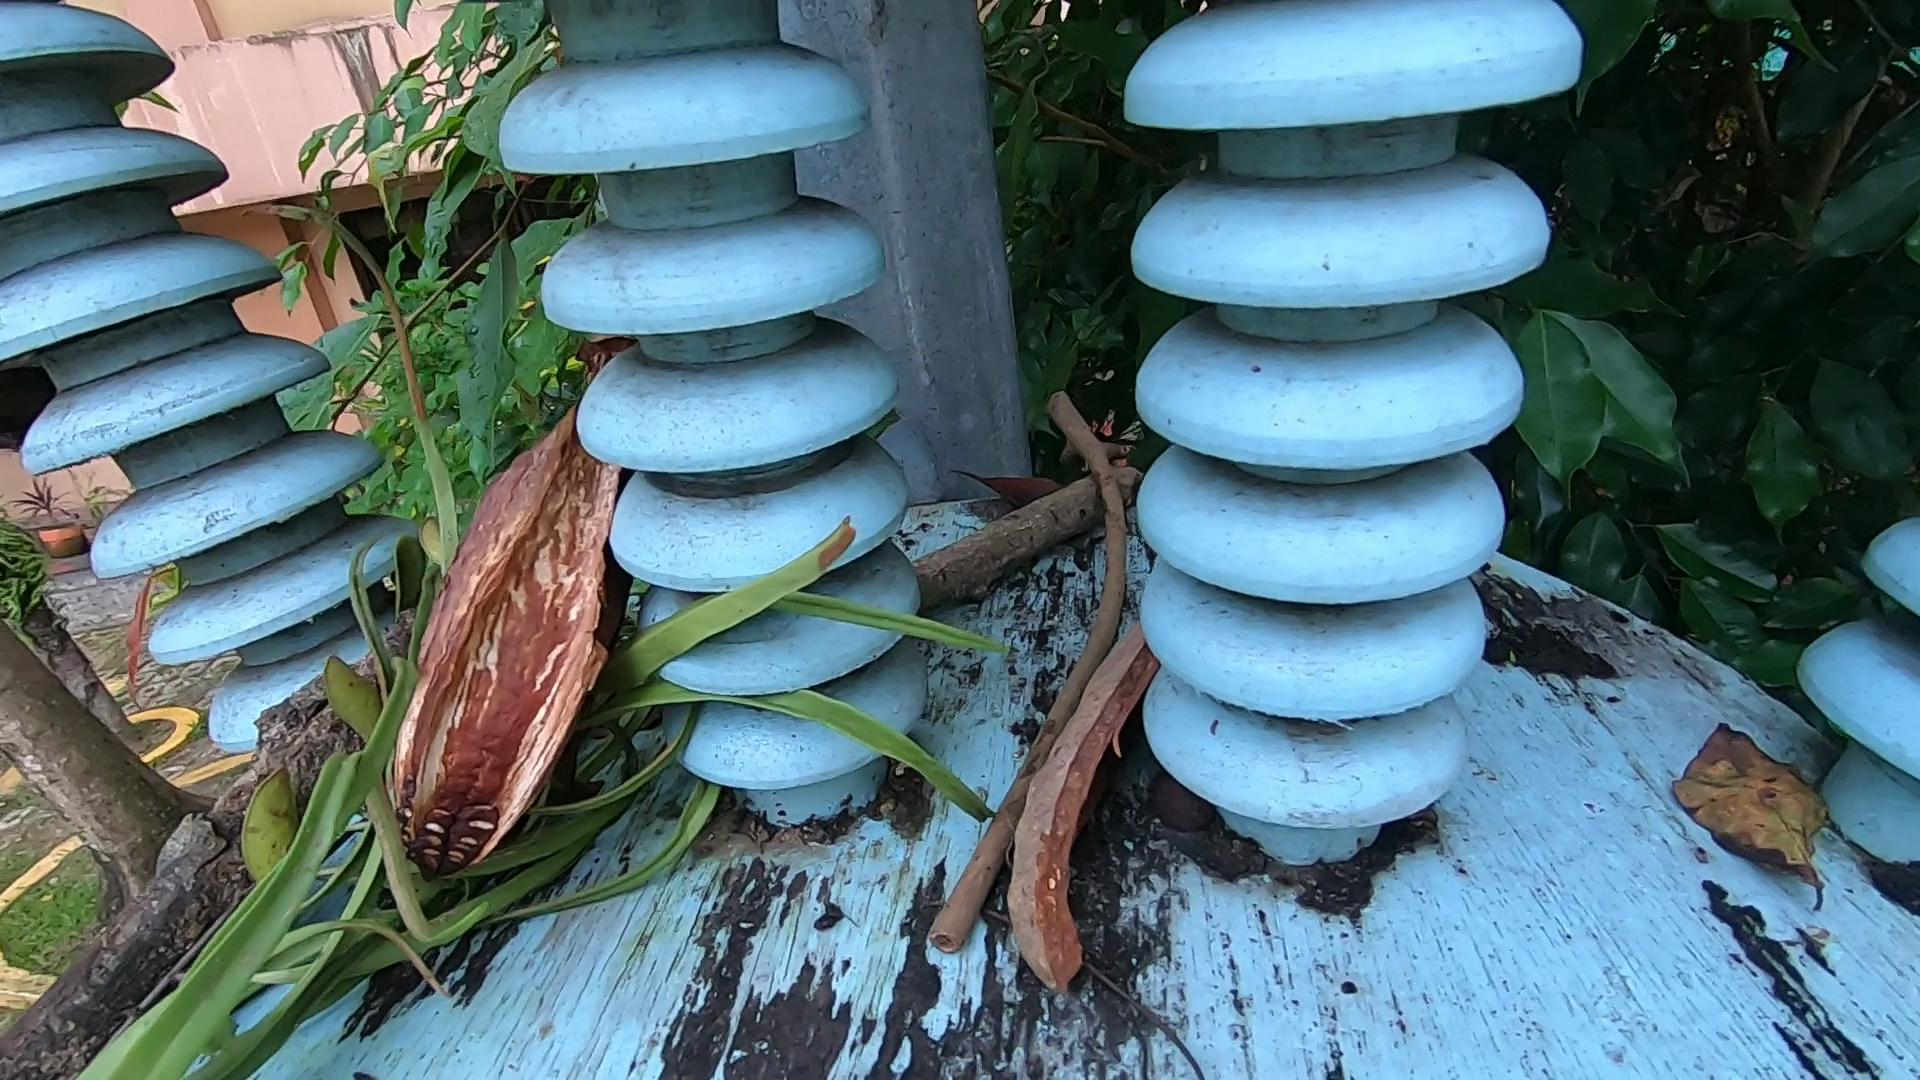branch with leaves: (41, 237, 993, 1080)
leaf: (1672, 724, 1840, 898)
mahogany fruit: (353, 326, 629, 932), (985, 524, 1208, 1005)
tree branch: (935, 384, 1137, 948), (916, 455, 1145, 599)
